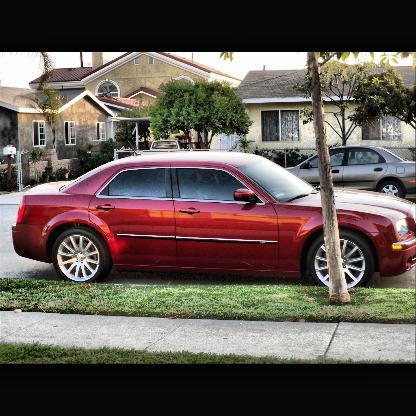Chrysler 300 SRT-8 2010: (13, 149, 416, 290)
